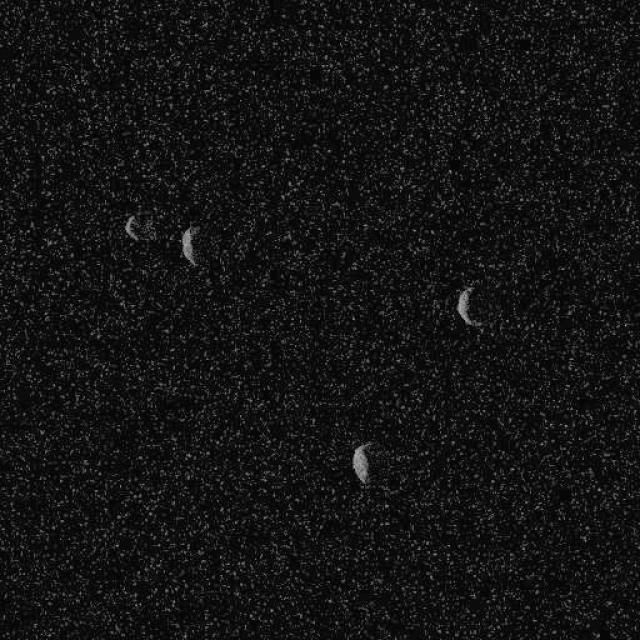D2: (455, 285, 484, 329), (124, 212, 158, 242), (351, 440, 371, 485), (179, 224, 199, 266)
